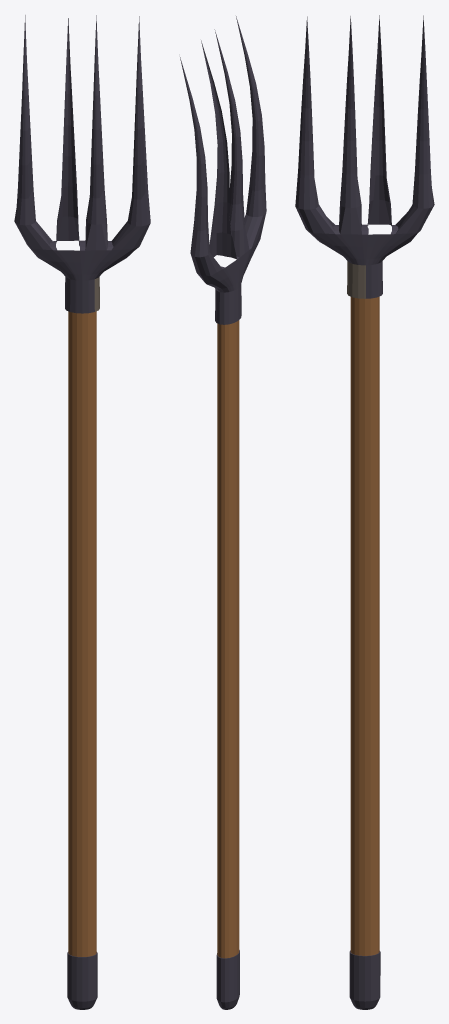
File: metal_fork.glb
3 views of the same model, side by side, from view 1: azimuth 90°, elevation 25°; view 2: azimuth 150°, elevation 25°; view 3: azimuth 270°, elevation 25° (orthographic). The views are drawn at different scales.
Parts seen in each view (by area): view 1: MetalFork; view 2: MetalFork; view 3: MetalFork.
Boxes of the visible parts, x1,y1,x2,y2 form: MetalFork: (14, 15, 150, 1009); MetalFork: (180, 16, 266, 1009); MetalFork: (295, 15, 434, 1009).
Size of the model in its own units: 0.01 by 0.3 by 0.0377.
